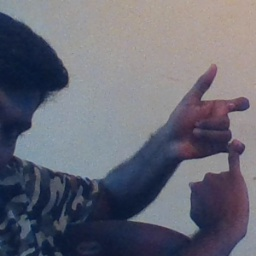S: (158, 53, 256, 221)
